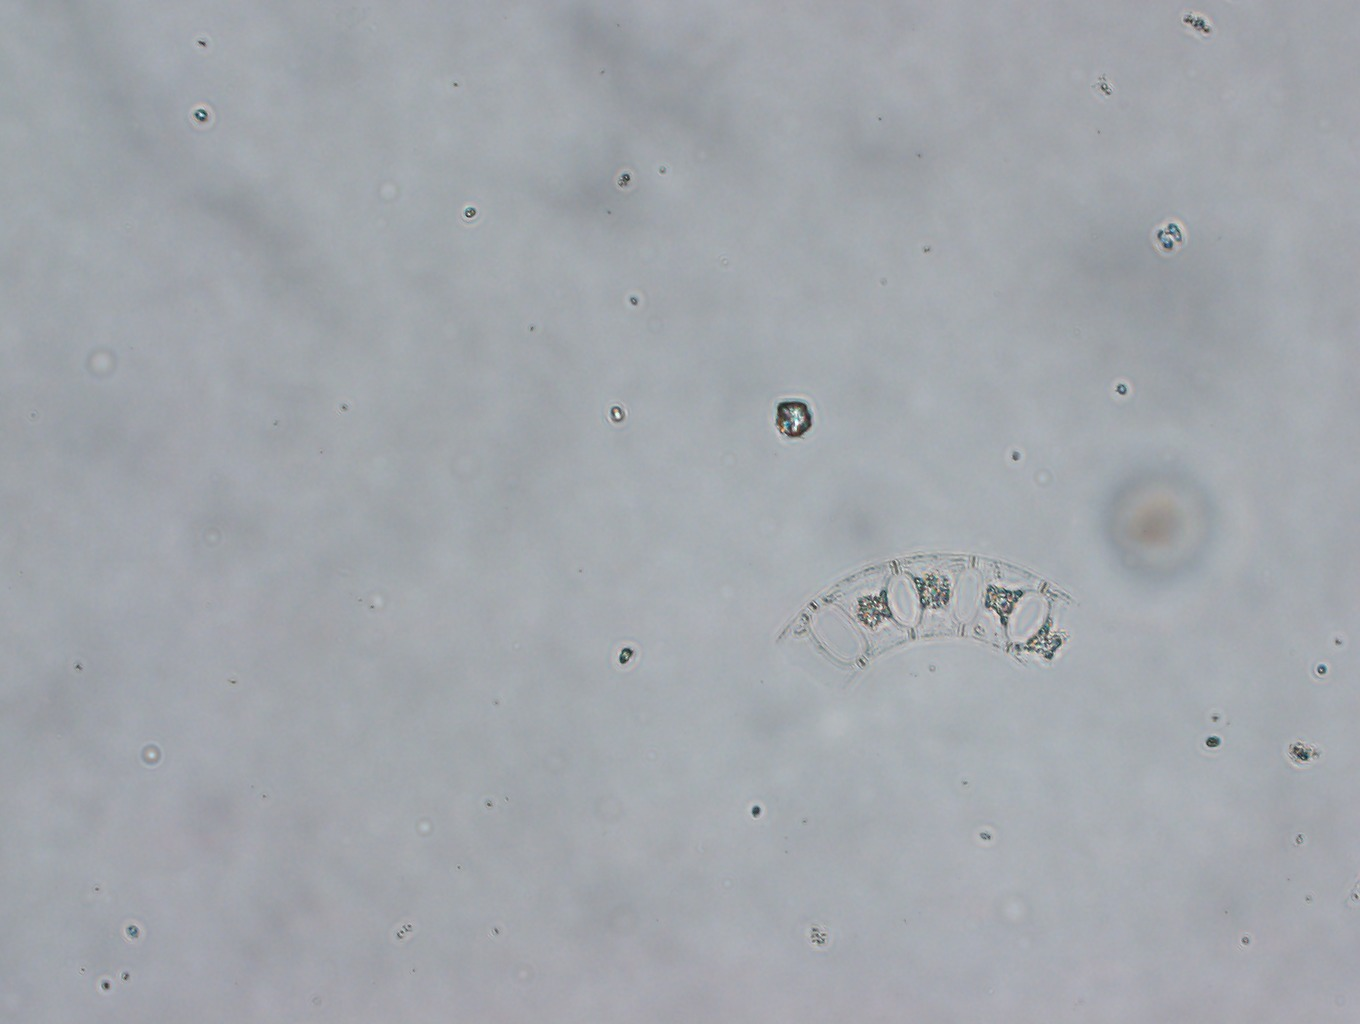eucampia: (776, 552, 1079, 687)
